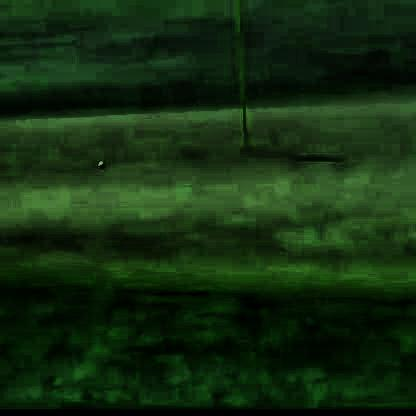golfball: (94, 157, 104, 167)
